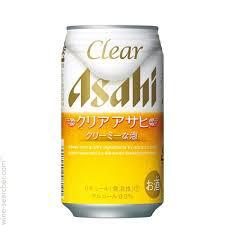beer: (60, 25, 165, 218)
